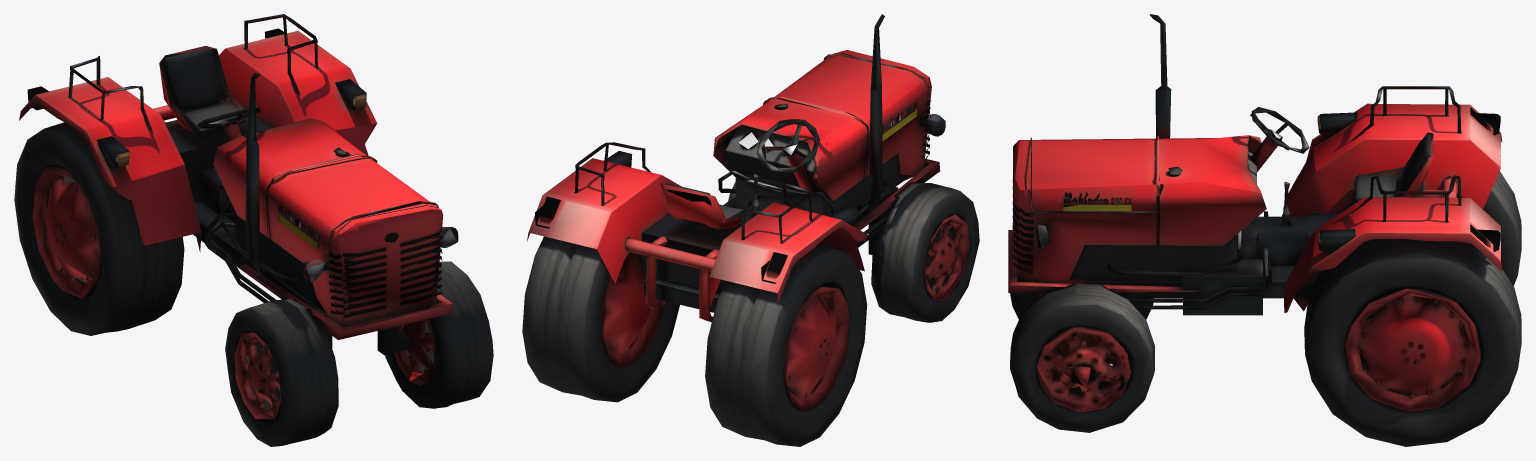
Rendered from tractor_low_poly.glb.
The picture shows the model from 3 angles, left to right: view 1: azimuth 30°, elevation 25°; view 2: azimuth 150°, elevation 25°; view 3: azimuth 270°, elevation 25°; orthographic projection. The views are drawn at different scales.
Visible parts, largest first — view 1: Tractor_0; view 2: Tractor_0; view 3: Tractor_0.
Part boxes in pixels (x1=…): Tractor_0: x1=14, y1=14, x2=493, y2=446; Tractor_0: x1=522, y1=14, x2=979, y2=446; Tractor_0: x1=1008, y1=14, x2=1521, y2=446.
Bounding box in the file's own units: 9.96 × 11.82 × 16.2.
Materials: 1 (1 with a texture image).
